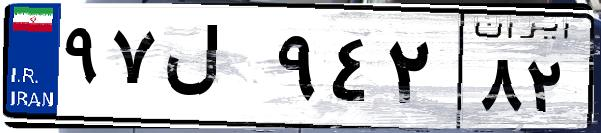2: (385, 28, 445, 110), (525, 38, 570, 115)
4: (330, 28, 385, 110)
7: (110, 28, 158, 98)
8: (475, 38, 525, 113)
9: (270, 28, 330, 110), (57, 26, 110, 100)
ل: (158, 20, 270, 120)
